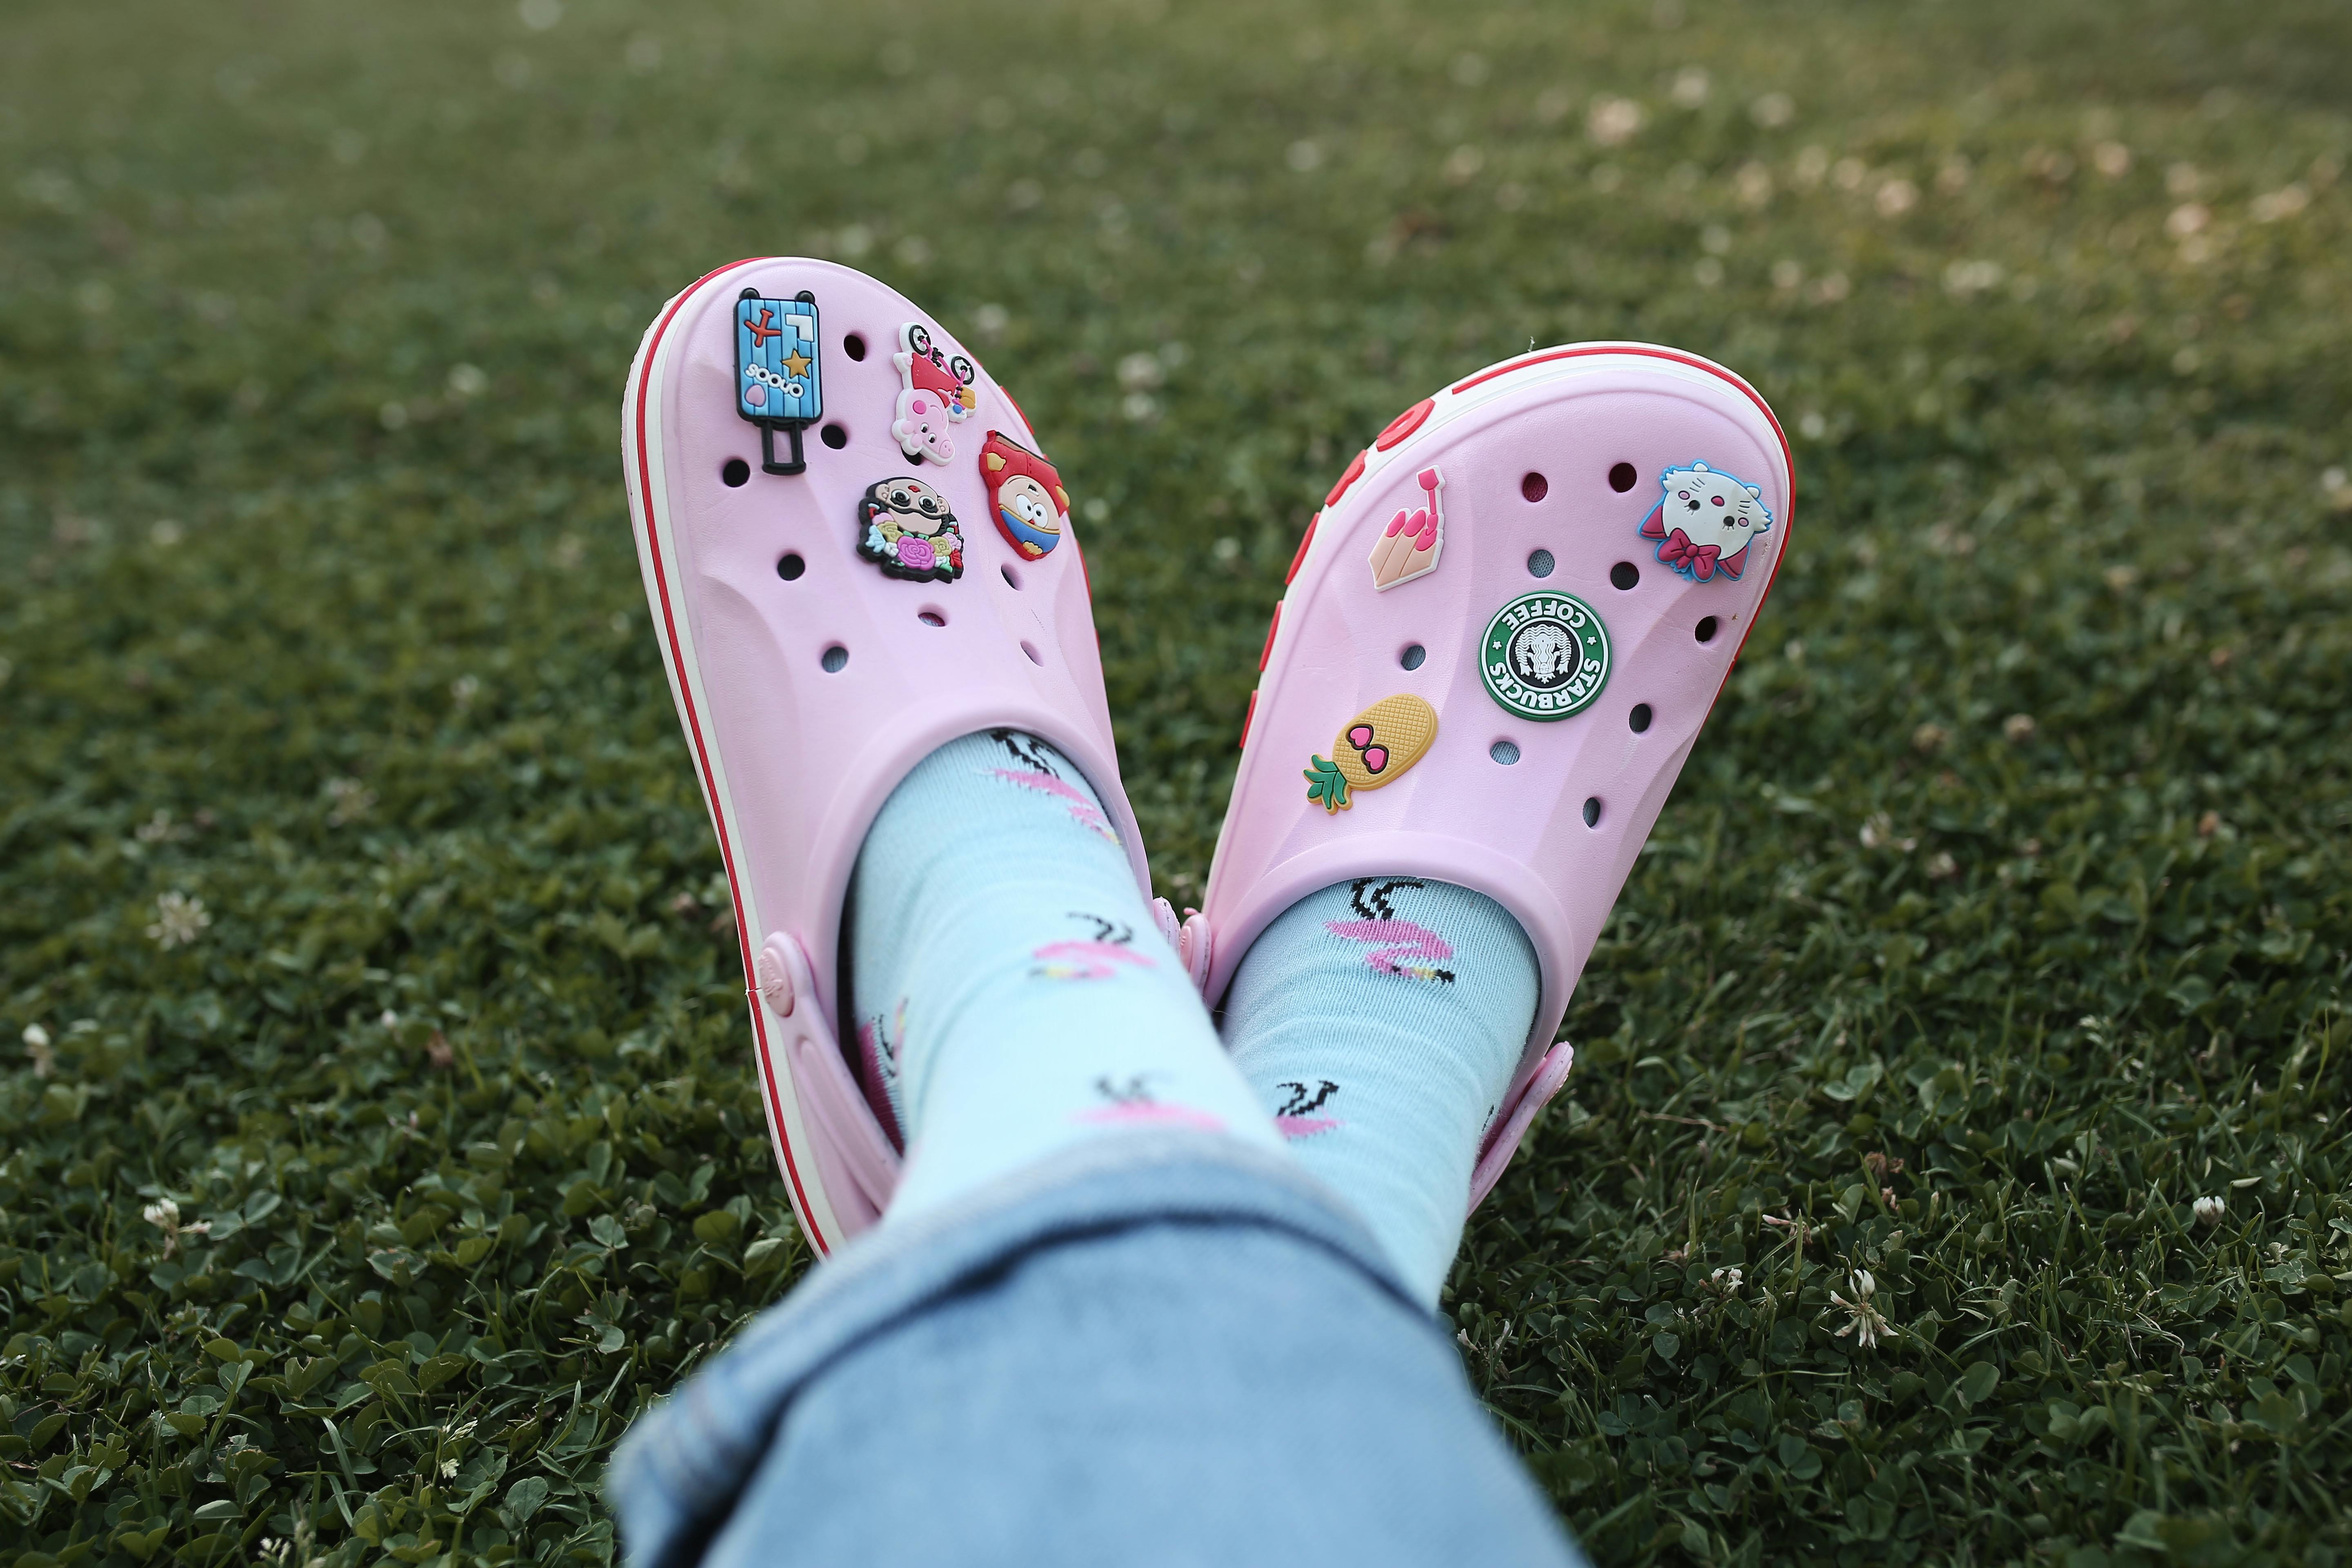Footwear: (546, 250, 1249, 1120), (1162, 322, 1806, 1129)
